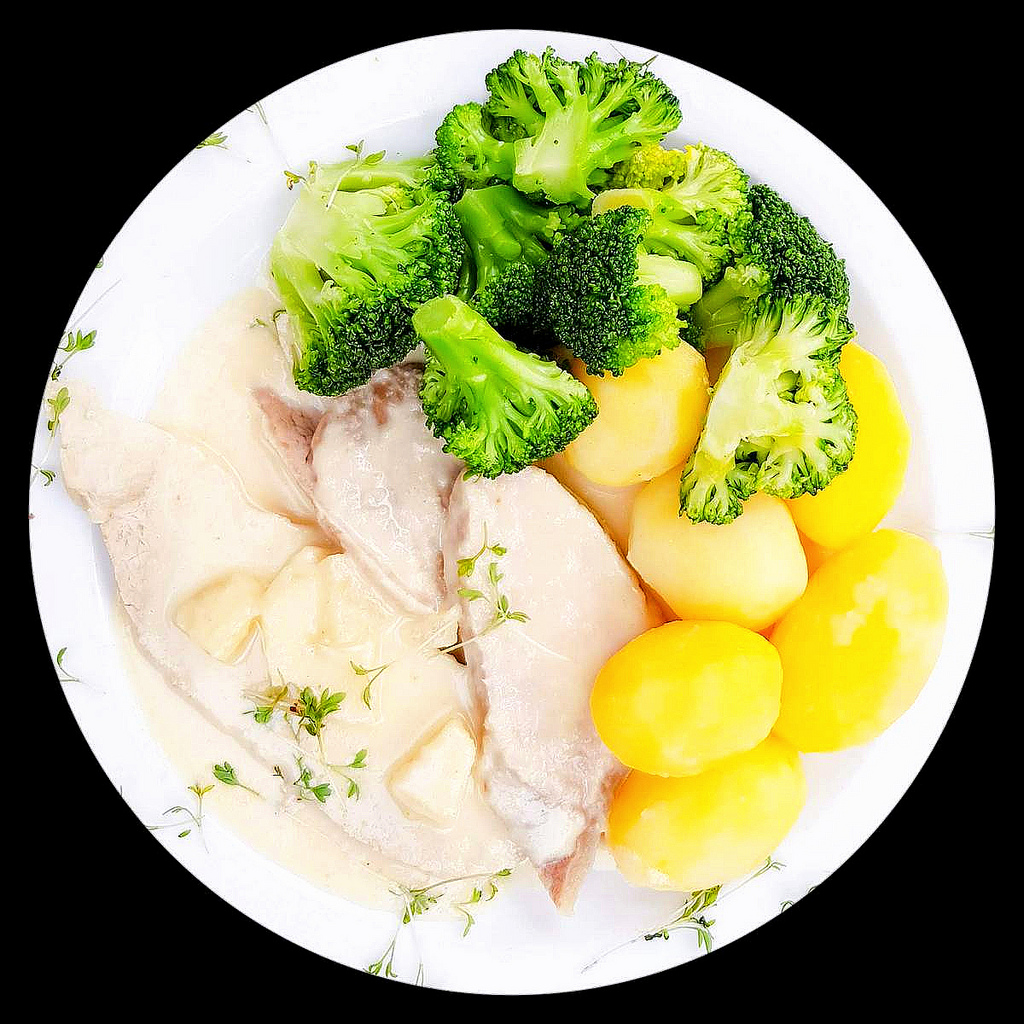boiled potatoes: (778, 524, 940, 757), (624, 459, 812, 637), (582, 616, 790, 774), (601, 754, 820, 896), (556, 326, 718, 485), (799, 332, 910, 549)
